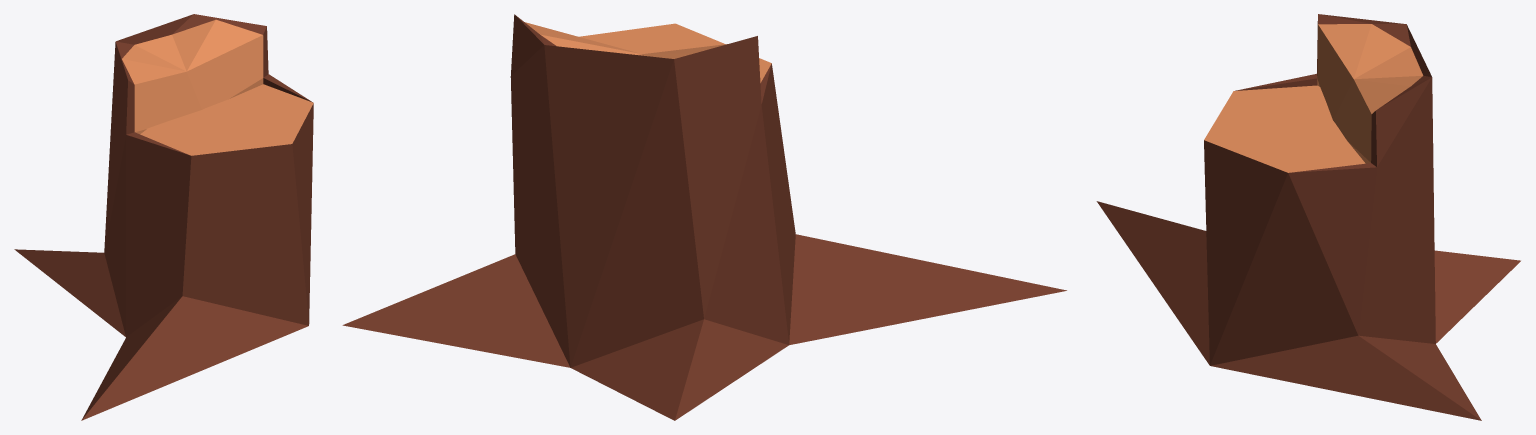
The model's file is pine_trunk_type_4_LOD2.fbx.
3 renders of one model, left to right at view 1: azimuth 30°, elevation 25°; view 2: azimuth 150°, elevation 25°; view 3: azimuth 270°, elevation 25°, orthographic. The views are drawn at different scales.
Visible parts, largest first — view 1: Cylinder.001; view 2: Cylinder.001; view 3: Cylinder.001.
Part boxes in pixels (x1,y1,x2,y2): Cylinder.001: (14, 14, 313, 420); Cylinder.001: (342, 14, 1066, 420); Cylinder.001: (1096, 14, 1520, 420).
Bounding box in the file's own units: 437 × 263 × 356.
